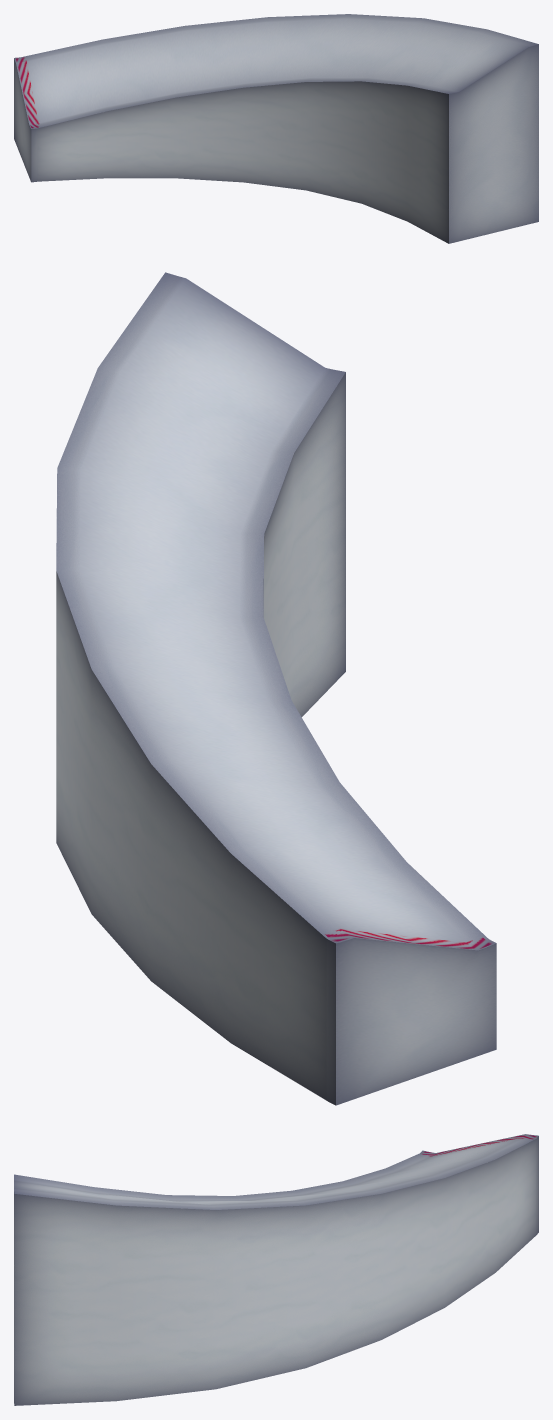
Rendered from Slope_Curve_Left.fbx.
3 renders of one model, top to bottom at view 1: azimuth 30°, elevation 25°; view 2: azimuth 150°, elevation 25°; view 3: azimuth 270°, elevation 25°, orthographic. The views are drawn at different scales.
Parts seen in each view (by area): view 1: Turning_left_slope; view 2: Turning_left_slope; view 3: Turning_left_slope.
Boxes of the visible parts, x1,y1,x2,y2 form: Turning_left_slope: [14, 14, 538, 243]; Turning_left_slope: [56, 272, 496, 1105]; Turning_left_slope: [14, 1134, 538, 1405].
Bounding box in the file's own units: 7292 × 3751 × 8248.
